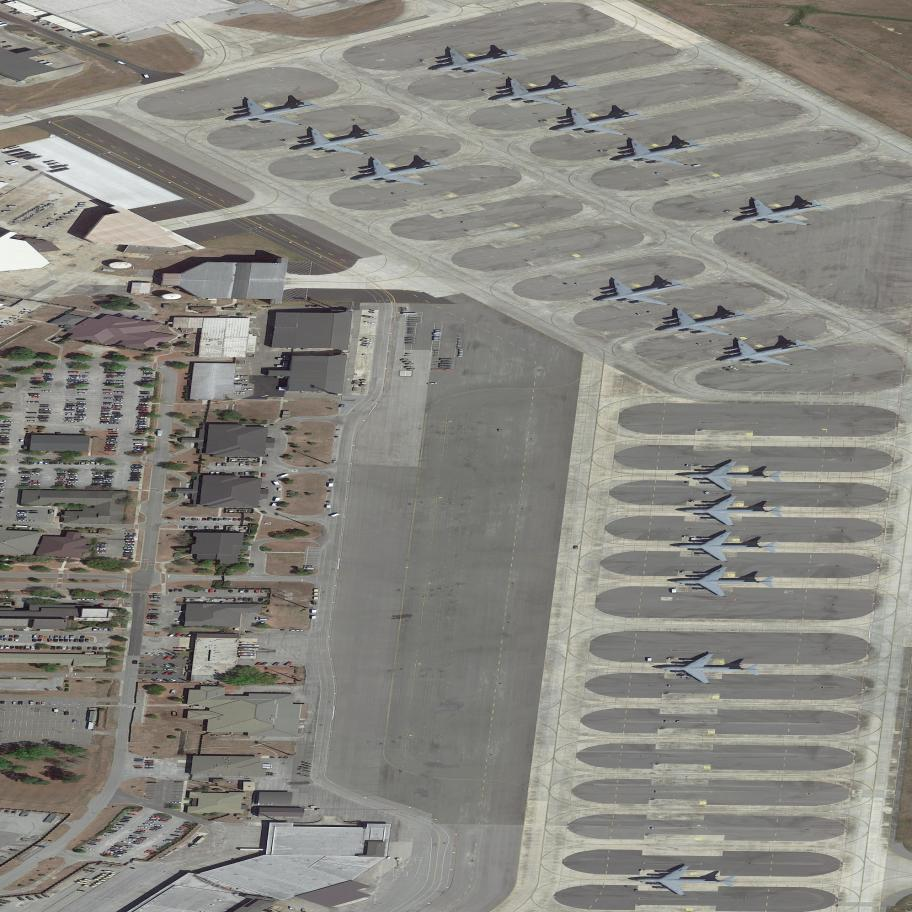plane: (568, 263, 718, 322), (690, 324, 837, 382), (267, 114, 412, 171), (632, 294, 774, 352), (711, 185, 855, 242), (531, 94, 669, 150), (204, 85, 343, 140), (331, 145, 470, 199), (590, 126, 731, 179), (467, 66, 605, 120), (406, 36, 542, 90), (626, 864, 742, 897), (676, 494, 785, 528), (675, 459, 789, 491), (650, 653, 764, 685), (670, 530, 779, 562), (670, 566, 779, 597)
small-vehicle: (329, 511, 342, 518), (115, 59, 128, 66), (277, 473, 291, 479), (271, 660, 281, 668), (728, 365, 741, 371), (283, 660, 294, 667), (142, 669, 153, 676), (273, 479, 281, 488), (56, 684, 64, 693), (167, 631, 176, 639), (169, 677, 179, 684), (156, 677, 166, 684), (259, 660, 269, 667), (8, 161, 22, 166), (169, 662, 179, 669), (360, 315, 377, 319), (722, 366, 733, 372), (162, 678, 173, 684), (361, 339, 374, 344), (150, 677, 159, 684), (168, 670, 177, 677), (173, 631, 182, 638), (1, 44, 13, 49), (162, 670, 172, 676), (184, 632, 194, 638), (260, 509, 268, 516), (164, 654, 172, 661), (171, 654, 179, 661), (49, 25, 60, 30), (131, 314, 140, 320), (152, 651, 161, 657), (150, 670, 159, 676), (5, 160, 18, 164), (33, 844, 46, 848), (8, 9, 18, 14), (158, 652, 168, 657), (164, 651, 174, 656), (271, 501, 278, 508), (359, 344, 371, 348), (362, 337, 374, 341), (363, 321, 375, 325), (255, 661, 263, 667), (116, 850, 128, 854), (179, 632, 187, 638), (361, 342, 372, 346), (31, 20, 42, 24), (121, 840, 132, 844), (139, 836, 150, 840), (152, 662, 159, 668), (110, 826, 124, 829), (273, 497, 281, 502), (55, 28, 65, 32), (41, 23, 51, 27), (30, 18, 40, 22), (12, 11, 22, 15), (146, 652, 154, 657), (163, 663, 171, 668), (127, 556, 135, 561), (80, 847, 93, 850), (124, 813, 137, 816), (49, 596, 62, 599), (236, 379, 248, 382), (426, 382, 438, 385), (92, 838, 104, 841), (91, 840, 103, 843), (100, 834, 112, 837), (111, 846, 123, 849), (178, 826, 190, 829), (150, 827, 162, 830), (113, 844, 122, 848), (154, 824, 166, 827), (129, 810, 141, 813), (97, 602, 104, 607), (1, 322, 12, 325), (3, 320, 14, 323), (8, 317, 19, 320), (12, 315, 23, 318), (18, 312, 29, 315), (20, 311, 31, 314), (88, 841, 99, 844), (125, 838, 136, 841), (129, 835, 140, 838), (137, 829, 148, 832), (176, 828, 187, 831), (163, 840, 174, 843), (143, 851, 154, 854), (146, 850, 157, 853), (86, 843, 97, 846), (160, 818, 171, 821), (142, 823, 153, 826), (143, 74, 151, 78), (287, 906, 295, 910), (103, 852, 113, 855), (131, 842, 141, 845), (109, 848, 119, 851), (106, 849, 116, 852), (114, 852, 124, 855), (104, 831, 114, 834), (115, 823, 125, 826), (133, 832, 143, 835), (248, 563, 254, 568), (311, 609, 317, 614), (133, 447, 147, 449), (325, 504, 332, 508), (328, 483, 335, 487), (260, 473, 267, 477), (562, 282, 569, 286), (255, 617, 269, 619), (113, 854, 122, 857), (166, 838, 175, 841), (119, 849, 128, 852), (107, 830, 116, 833), (170, 652, 179, 655), (111, 416, 124, 418), (37, 417, 50, 419), (133, 443, 146, 445), (39, 412, 52, 414), (106, 439, 119, 441), (2, 407, 15, 409), (106, 435, 119, 437), (132, 439, 145, 441), (101, 486, 114, 488), (127, 480, 140, 482), (30, 387, 43, 389), (102, 372, 115, 374), (74, 417, 87, 419), (138, 396, 151, 398), (39, 409, 52, 411), (18, 472, 31, 474), (151, 816, 164, 818), (146, 616, 159, 618), (172, 650, 185, 652), (290, 630, 303, 632), (148, 595, 161, 597), (103, 599, 116, 601), (72, 598, 85, 600), (222, 462, 227, 467), (9, 634, 14, 639), (647, 658, 653, 662), (28, 393, 40, 395), (76, 414, 88, 416), (38, 415, 50, 417), (105, 442, 117, 444), (1, 429, 13, 431), (39, 410, 51, 412), (75, 398, 87, 400), (63, 409, 75, 411), (135, 429, 147, 431), (108, 429, 120, 431), (135, 431, 147, 433), (136, 421, 148, 423), (138, 413, 150, 415), (131, 466, 143, 468), (65, 387, 77, 389), (42, 376, 54, 378), (40, 390, 52, 392), (116, 369, 128, 371), (78, 389, 90, 391), (136, 416, 148, 418), (136, 424, 148, 426), (66, 379, 78, 381), (104, 370, 116, 372), (63, 407, 75, 409), (29, 701, 35, 705), (133, 758, 145, 760), (148, 829, 160, 831), (671, 589, 677, 593), (15, 518, 27, 520), (183, 526, 189, 530), (132, 660, 138, 664), (303, 567, 315, 569), (302, 565, 314, 567), (173, 588, 179, 592), (26, 412, 37, 414), (110, 422, 121, 424), (76, 403, 87, 405), (39, 404, 50, 406), (76, 411, 87, 413), (139, 399, 150, 401), (113, 395, 124, 397), (108, 433, 119, 435), (136, 428, 147, 430), (136, 426, 147, 428), (136, 423, 147, 425), (133, 445, 144, 447), (67, 482, 78, 484), (66, 471, 77, 473), (130, 472, 141, 474), (131, 467, 142, 469), (29, 474, 40, 476), (236, 391, 247, 393), (237, 375, 248, 377), (115, 383, 126, 385), (76, 392, 87, 394), (105, 377, 116, 379), (137, 418, 148, 420), (114, 386, 125, 388), (139, 391, 150, 393), (30, 396, 41, 398), (101, 389, 112, 391), (28, 401, 39, 403), (76, 405, 87, 407), (163, 668, 174, 670), (144, 767, 155, 769), (145, 760, 156, 762), (173, 781, 184, 783), (124, 845, 135, 847), (132, 841, 143, 843), (135, 840, 146, 842), (183, 824, 194, 826), (152, 846, 163, 848), (152, 826, 163, 828), (147, 819, 158, 821), (158, 820, 169, 822), (135, 831, 146, 833), (174, 831, 185, 833), (26, 520, 37, 522), (125, 534, 136, 536), (125, 541, 136, 543), (124, 547, 135, 549), (65, 485, 76, 487), (67, 479, 78, 481), (57, 477, 68, 479), (67, 474, 78, 476), (96, 544, 107, 546), (148, 613, 159, 615), (96, 552, 107, 554), (150, 597, 161, 599), (170, 690, 177, 693), (328, 479, 335, 482), (183, 656, 190, 659), (111, 411, 121, 413), (39, 418, 49, 420), (100, 420, 110, 422), (4, 421, 14, 423), (106, 440, 116, 442), (0, 426, 10, 428), (105, 448, 115, 450), (105, 445, 115, 447), (65, 403, 75, 405), (3, 405, 13, 407), (114, 397, 124, 399), (103, 397, 113, 399), (138, 404, 148, 406), (103, 481, 113, 483), (92, 481, 102, 483), (65, 484, 75, 486), (94, 471, 104, 473), (74, 461, 79, 465), (39, 461, 44, 465), (58, 461, 63, 465), (44, 461, 49, 465), (31, 480, 41, 482), (31, 472, 41, 474), (95, 461, 100, 465), (90, 461, 95, 465), (236, 393, 246, 395), (24, 309, 34, 311), (116, 380, 126, 382), (142, 377, 152, 379), (143, 374, 153, 376), (80, 375, 90, 377), (139, 410, 149, 412), (140, 393, 150, 395), (116, 372, 126, 374), (76, 409, 86, 411), (102, 408, 112, 410), (112, 405, 122, 407), (21, 471, 31, 473), (18, 701, 23, 705), (133, 765, 143, 767), (146, 765, 156, 767), (143, 757, 153, 759), (134, 760, 144, 762), (72, 719, 77, 723), (64, 711, 69, 715), (72, 646, 77, 650), (49, 635, 54, 639), (122, 816, 132, 818), (138, 826, 148, 828), (121, 818, 131, 820), (136, 838, 146, 840), (127, 837, 137, 839), (119, 821, 129, 823), (146, 822, 156, 824), (181, 825, 191, 827), (170, 834, 180, 836), (84, 638, 89, 642), (97, 542, 107, 544), (98, 547, 108, 549), (56, 479, 66, 481), (55, 482, 65, 484), (104, 476, 114, 478), (207, 517, 212, 521), (91, 484, 101, 486), (91, 482, 101, 484), (92, 479, 102, 481), (148, 609, 158, 611), (148, 618, 158, 620), (148, 621, 158, 623), (146, 623, 156, 625), (29, 595, 39, 597), (260, 590, 265, 594), (239, 589, 244, 593), (209, 589, 214, 593), (65, 417, 74, 419), (39, 420, 48, 422), (110, 419, 119, 421), (132, 464, 141, 466), (238, 472, 244, 475), (232, 472, 238, 475), (132, 470, 141, 472), (132, 469, 141, 471), (101, 411, 110, 413), (115, 391, 124, 393), (65, 414, 74, 416), (65, 412, 74, 414), (65, 406, 74, 408), (134, 767, 143, 769), (50, 646, 56, 649), (92, 647, 98, 650), (126, 847, 135, 849), (120, 819, 129, 821), (147, 820, 156, 822), (17, 515, 26, 517), (16, 516, 25, 518), (55, 485, 64, 487), (57, 474, 66, 476), (20, 480, 29, 482), (227, 590, 233, 593), (14, 635, 20, 638), (311, 616, 317, 619), (258, 598, 264, 601), (1, 440, 9, 442), (28, 461, 32, 465), (34, 461, 38, 465), (79, 381, 87, 383), (78, 646, 82, 650), (67, 646, 71, 650), (65, 635, 69, 639), (31, 646, 35, 650), (25, 646, 29, 650), (105, 851, 113, 853), (21, 483, 29, 485), (38, 638, 42, 642), (249, 598, 253, 602), (109, 628, 113, 632), (19, 439, 24, 442), (184, 493, 189, 496), (63, 462, 68, 465), (209, 472, 214, 475), (245, 472, 250, 475), (215, 472, 220, 475), (277, 488, 282, 491), (239, 463, 244, 466), (80, 462, 85, 465), (85, 462, 90, 465), (12, 701, 17, 704), (35, 702, 40, 705), (41, 702, 46, 705), (35, 646, 40, 649), (14, 646, 19, 649), (87, 647, 92, 650), (61, 646, 66, 649), (69, 639, 74, 642), (39, 635, 44, 638), (33, 635, 38, 638), (4, 646, 9, 649), (14, 638, 19, 641), (8, 638, 13, 641), (301, 909, 306, 912), (78, 639, 83, 642), (217, 518, 222, 521), (196, 518, 201, 521), (215, 526, 220, 529), (193, 526, 198, 529), (238, 518, 243, 521), (227, 518, 232, 521), (223, 518, 228, 521), (212, 518, 217, 521), (191, 518, 196, 521), (262, 461, 267, 464), (168, 589, 173, 592), (244, 590, 249, 593), (178, 589, 183, 592), (64, 639, 69, 642), (98, 628, 103, 631), (135, 407, 149, 408), (173, 647, 187, 648), (255, 619, 269, 620), (138, 415, 151, 416), (28, 395, 41, 396), (67, 372, 80, 373), (136, 409, 149, 410), (170, 802, 183, 803), (138, 401, 150, 402), (106, 438, 118, 439), (137, 412, 149, 413), (134, 449, 146, 450), (49, 461, 53, 464), (29, 482, 41, 483), (92, 473, 104, 474), (54, 461, 58, 464), (130, 477, 142, 478), (129, 474, 141, 475), (101, 462, 105, 465), (70, 462, 74, 465), (217, 463, 221, 466), (100, 415, 112, 416), (31, 378, 43, 379), (137, 406, 149, 407), (76, 408, 88, 409), (1, 701, 5, 704), (10, 646, 14, 649), (20, 646, 24, 649), (4, 635, 8, 638), (56, 646, 60, 649), (99, 647, 103, 650), (60, 635, 64, 638), (55, 636, 59, 639), (3, 638, 7, 641), (233, 518, 237, 521), (205, 526, 209, 529), (189, 526, 193, 529), (202, 518, 206, 521), (81, 635, 85, 638), (59, 639, 63, 642), (174, 611, 186, 612), (255, 590, 259, 593), (238, 598, 242, 601), (244, 598, 248, 601), (215, 590, 219, 593), (204, 589, 208, 592), (104, 628, 108, 631), (113, 415, 124, 416), (111, 413, 122, 414), (1, 420, 12, 421), (108, 431, 119, 432), (68, 481, 79, 482), (106, 382, 117, 383), (110, 418, 121, 419), (104, 369, 115, 370), (43, 378, 54, 379), (142, 373, 153, 374), (68, 378, 79, 379), (111, 407, 122, 408), (144, 762, 155, 763), (144, 764, 155, 765), (146, 782, 157, 783), (149, 818, 160, 819), (28, 510, 39, 511), (17, 510, 28, 511), (125, 533, 136, 534), (28, 512, 39, 513), (17, 512, 28, 513), (125, 545, 136, 546), (125, 537, 136, 538), (95, 549, 106, 550), (86, 599, 97, 600), (5, 597, 16, 598), (121, 556, 132, 557), (99, 418, 109, 419), (106, 444, 116, 445), (103, 402, 113, 403), (113, 409, 123, 410), (103, 480, 113, 481), (93, 475, 103, 476), (131, 475, 141, 476), (130, 479, 140, 480), (31, 484, 41, 485), (56, 471, 66, 472), (44, 373, 54, 374), (244, 389, 254, 390), (42, 381, 52, 382), (115, 376, 125, 377), (143, 371, 153, 372), (137, 420, 147, 421), (99, 423, 109, 424), (101, 413, 111, 414), (65, 421, 75, 422), (64, 419, 74, 420), (74, 419, 84, 420), (66, 386, 76, 387), (105, 380, 115, 381), (44, 380, 54, 381), (105, 375, 115, 376), (74, 421, 84, 422), (114, 404, 124, 405), (113, 399, 123, 400), (103, 393, 113, 394), (67, 381, 77, 382), (69, 375, 79, 376), (103, 404, 113, 405), (74, 416, 84, 417), (27, 420, 37, 421), (75, 413, 85, 414), (76, 407, 86, 408), (31, 471, 41, 472), (16, 520, 26, 521), (18, 514, 28, 515), (124, 546, 134, 547), (124, 540, 134, 541), (122, 552, 132, 553), (96, 546, 106, 547), (125, 538, 135, 539), (93, 476, 103, 477), (103, 475, 113, 476), (148, 615, 158, 616), (31, 639, 36, 641), (98, 551, 108, 552), (100, 419, 109, 420), (101, 416, 110, 417), (26, 417, 35, 418), (0, 442, 9, 443), (66, 405, 75, 406), (38, 406, 47, 407), (105, 472, 114, 473), (69, 476, 78, 477), (22, 476, 31, 477), (59, 476, 68, 477), (69, 478, 78, 479), (68, 473, 77, 474), (45, 375, 54, 376), (143, 379, 152, 380), (118, 374, 127, 375), (106, 374, 115, 375), (111, 421, 120, 422), (101, 410, 110, 411), (140, 403, 149, 404), (114, 401, 123, 402), (76, 402, 85, 403), (80, 380, 89, 381), (101, 407, 110, 408), (56, 473, 65, 474), (70, 635, 73, 638), (75, 639, 78, 642), (124, 551, 133, 552), (126, 543, 135, 544), (124, 549, 133, 550), (57, 481, 66, 482), (22, 479, 31, 480), (20, 477, 29, 478), (104, 473, 113, 474), (105, 478, 114, 479), (102, 485, 111, 486), (102, 483, 111, 484), (92, 478, 101, 479), (150, 601, 159, 602), (176, 621, 185, 622), (54, 639, 57, 642), (48, 639, 51, 642), (93, 628, 96, 631), (1, 439, 9, 440), (55, 484, 63, 485), (71, 377, 79, 378), (80, 377, 88, 378), (124, 554, 132, 555), (182, 518, 186, 520)
storage-tank: (105, 262, 135, 269), (162, 293, 182, 300)
